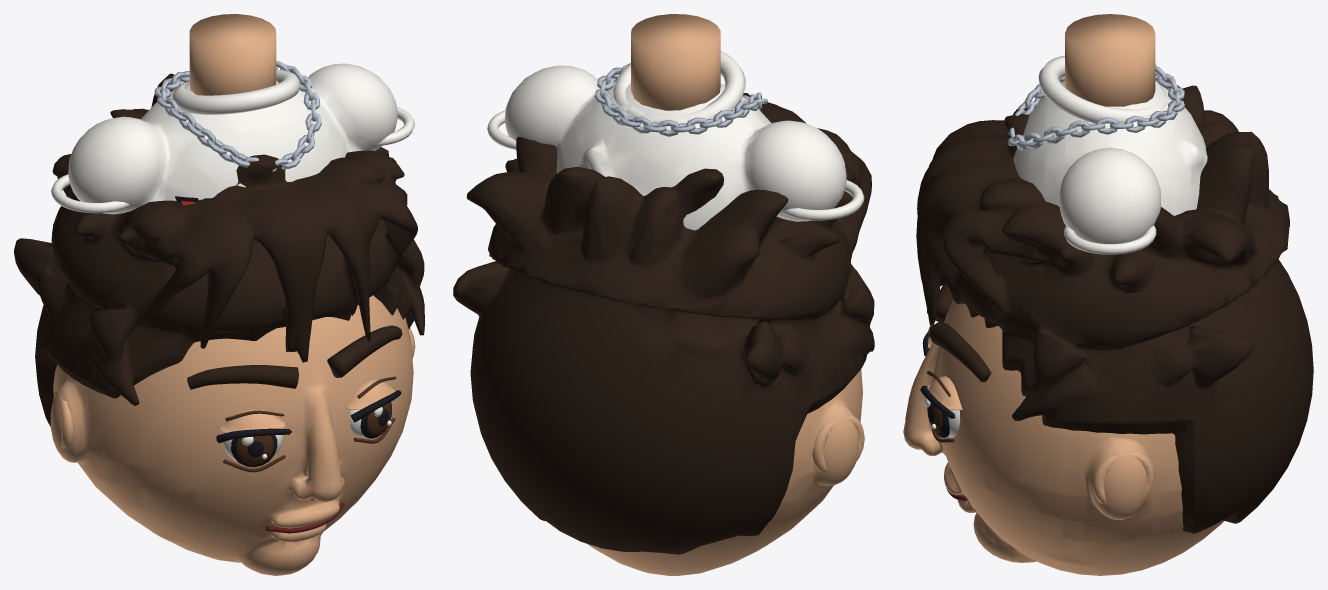
File: snacky.glb
3 views of the same model, side by side, from view 1: azimuth 30°, elevation 25°; view 2: azimuth 150°, elevation 25°; view 3: azimuth 270°, elevation 25° (orthographic). The views are drawn at different scales.
Visible parts, largest first — view 1: snacky_Head, snacky_Top, snacky_Body, snacky_Chain; view 2: snacky_Head, snacky_Top, snacky_Body, snacky_Chain; view 3: snacky_Head, snacky_Top, snacky_Body, snacky_Chain.
Part boxes in pixels (x1,y1,x2,y2): snacky_Head: [14, 73, 424, 575]; snacky_Top: [51, 63, 414, 214]; snacky_Body: [189, 14, 276, 95]; snacky_Chain: [154, 61, 321, 172]; snacky_Head: [453, 93, 874, 575]; snacky_Top: [487, 51, 864, 230]; snacky_Body: [631, 14, 720, 110]; snacky_Chain: [594, 64, 767, 136]; snacky_Head: [903, 80, 1313, 575]; snacky_Top: [1013, 56, 1207, 254]; snacky_Body: [1065, 14, 1155, 106]; snacky_Chain: [1007, 66, 1184, 150].
Size of the model in its own units: 0.2521 by 0.3529 by 0.246.
